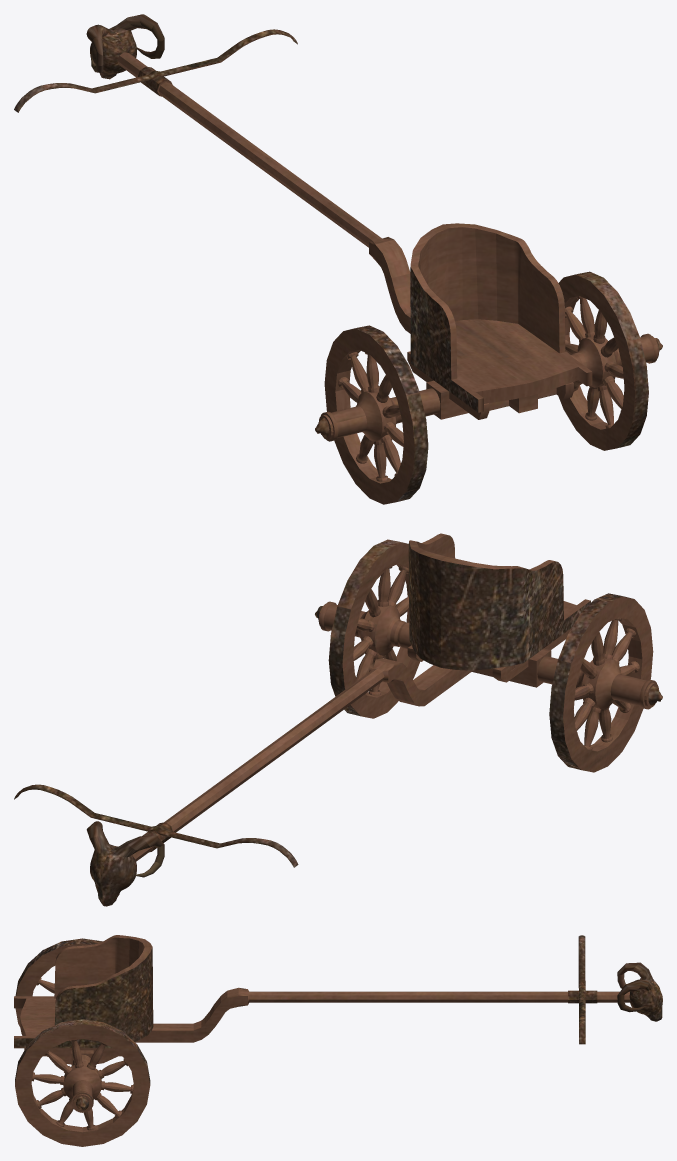
File: roman_race_chariot.glb
The picture shows the model from 3 angles, top to bottom: view 1: azimuth 30°, elevation 25°; view 2: azimuth 150°, elevation 25°; view 3: azimuth 270°, elevation 25°; orthographic projection. The views are drawn at different scales.
Parts seen in each view (by area): view 1: polySurface48; view 2: polySurface48; view 3: polySurface48.
Boxes of the visible parts, left/top/right/bottom form: polySurface48: left=14, top=14, right=662, bottom=504; polySurface48: left=14, top=533, right=662, bottom=906; polySurface48: left=14, top=935, right=662, bottom=1146.
Bounding box in the file's own units: 410 × 237 × 883.
Materials: 1 (1 with a texture image).
